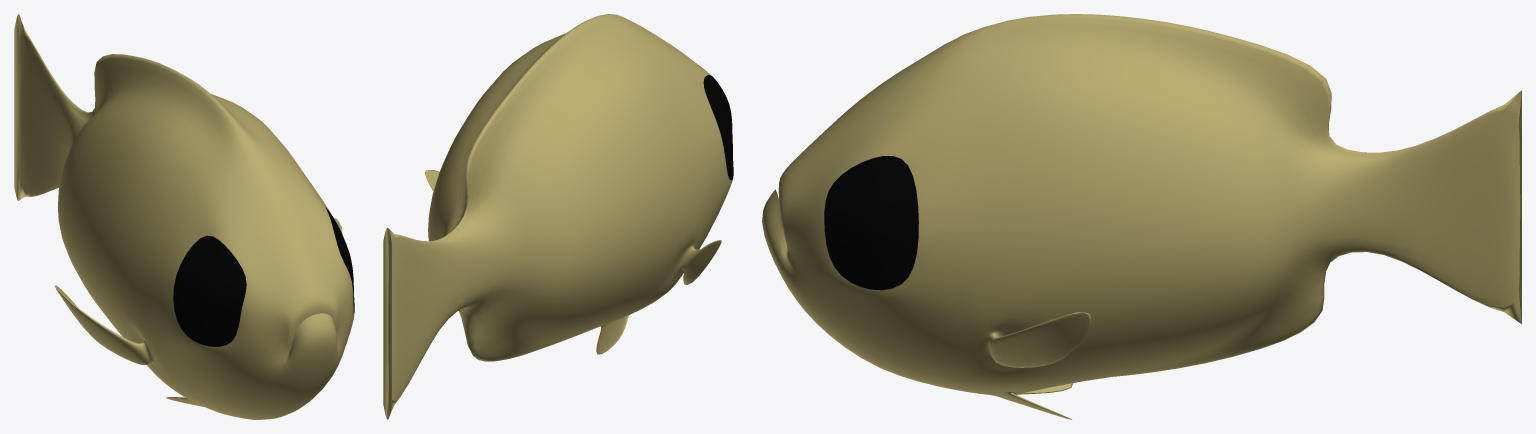
The model's file is fish.fbx.
3 renders of one model, left to right at view 1: azimuth 30°, elevation 25°; view 2: azimuth 150°, elevation 25°; view 3: azimuth 270°, elevation 25°, orthographic. The views are drawn at different scales.
Parts seen in each view (by area): view 1: fishV1; view 2: fishV1; view 3: fishV1.
Boxes of the visible parts, x1,y1,x2,y2 form: fishV1: [14, 14, 354, 419]; fishV1: [383, 14, 733, 419]; fishV1: [762, 14, 1521, 419].
Bounding box in the file's own units: 1.99 × 2.09 × 3.71.
